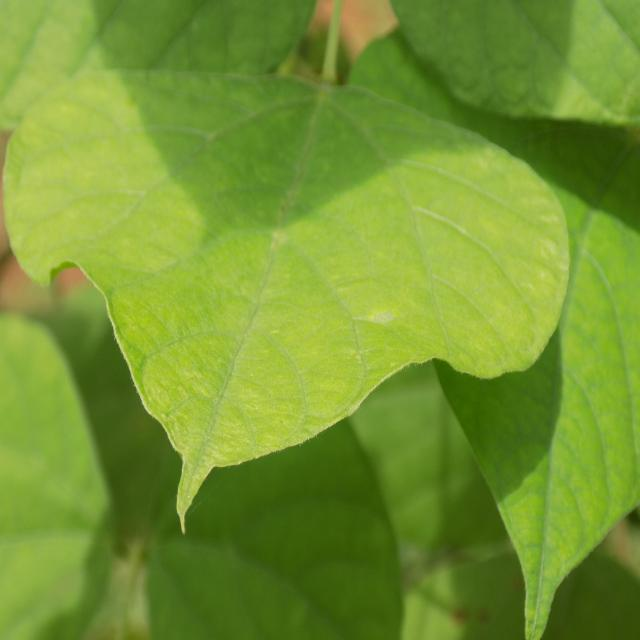Dolicos bean_healthy: (5, 68, 563, 524), (342, 15, 640, 640)
